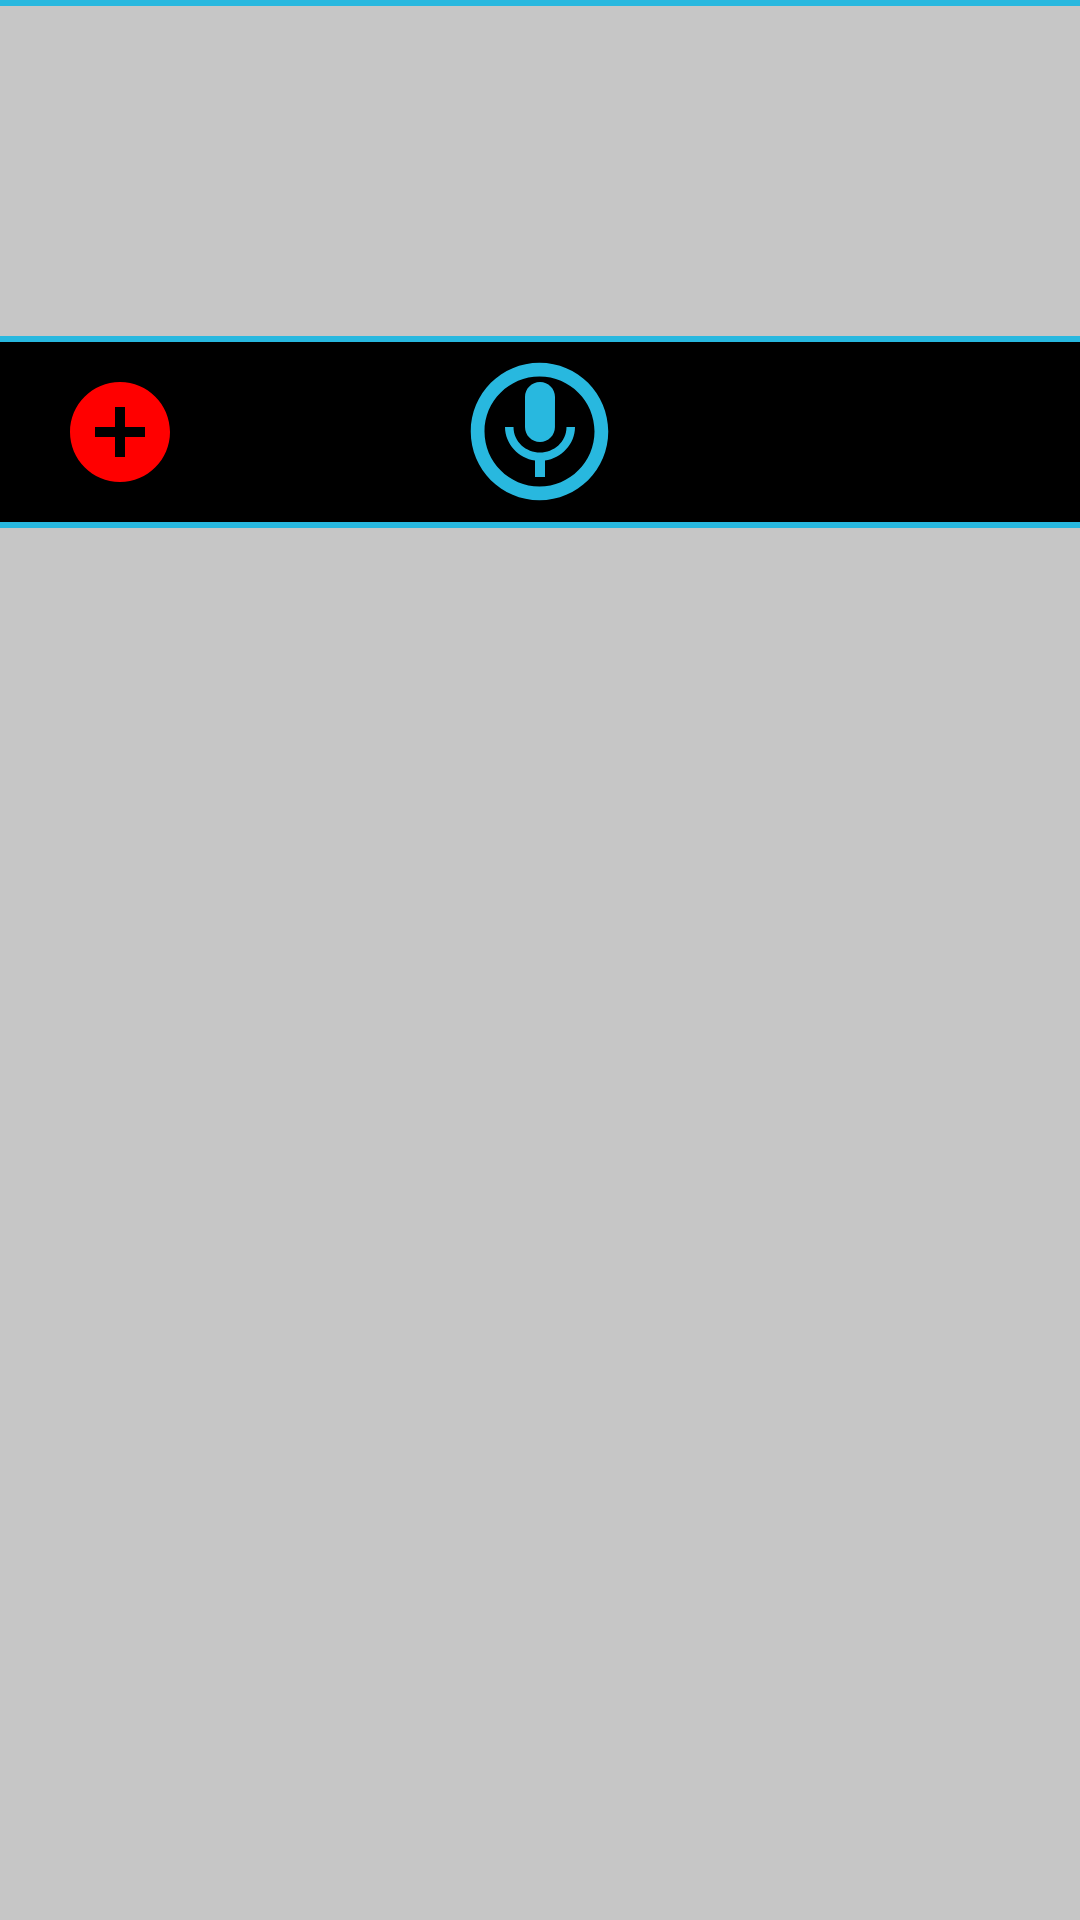

Named icons in this screenshot (1080px×1920px) and their centers, (x,y):
add circle: (120,432)
